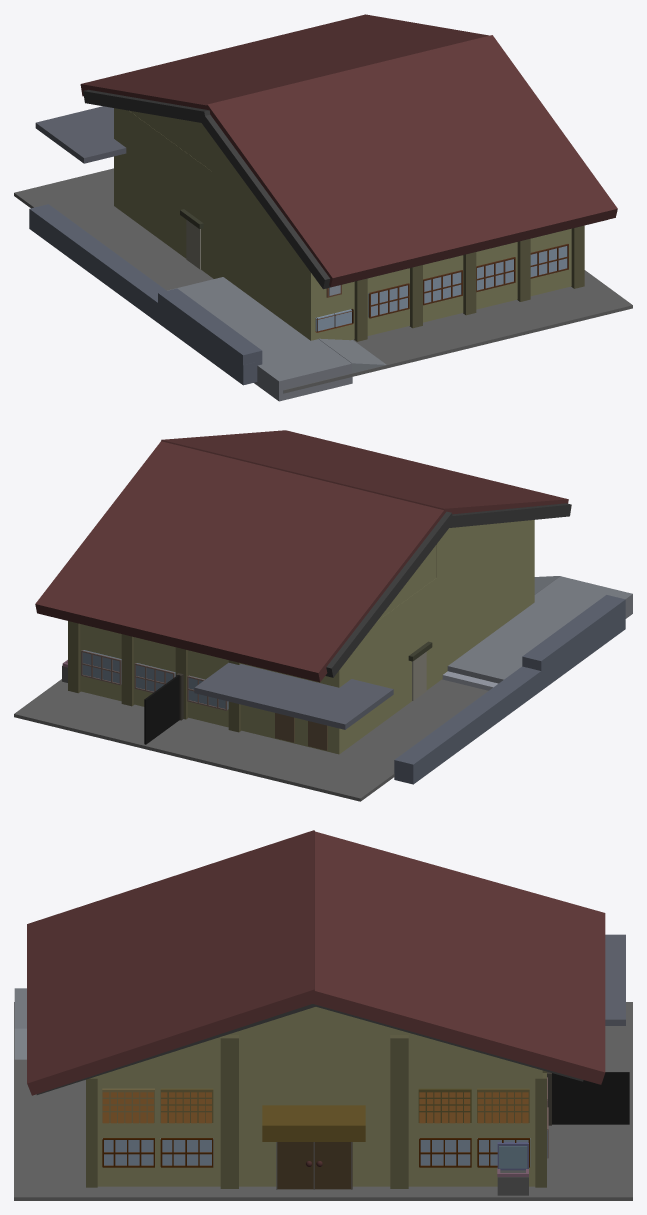
File: cafeteria1.fbx
3 views of the same model, one above another, from view 1: azimuth 30°, elevation 25°; view 2: azimuth 150°, elevation 25°; view 3: azimuth 270°, elevation 25° (orthographic). The views are drawn at different scales.
Parts seen in each view (by area): view 1: Cube.004, Cube.003, Cube.036, Cube.040, Cube.043, Cube.005, Cube.026, Cube.008, Cube.041, Cube.027, Cube.044, Cube.020; view 2: Cube.004, Cube.003, Cube.036, Cube.040, Cube.041, Cube.043, Cube.005, Cube.026, Cube.006, Cube.025, Cube.063, Cube.023 (+2 smaller); view 3: Cube.004, Cube.003, Cube.036, Cube.026, Cube.029, Cube.018, Cube.002, Cube.025, Cube.009, Cube.021, Cube.041, Cube.005 (+7 smaller).
Part boxes in pixels (bbox=[...]): Cube.004: bbox=[80, 14, 617, 286]; Cube.003: bbox=[114, 108, 571, 340]; Cube.036: bbox=[14, 168, 632, 393]; Cube.040: bbox=[29, 204, 262, 385]; Cube.043: bbox=[167, 277, 352, 401]; Cube.005: bbox=[83, 89, 607, 289]; Cube.026: bbox=[354, 225, 584, 341]; Cube.008: bbox=[315, 246, 567, 331]; Cube.041: bbox=[35, 106, 126, 163]; Cube.027: bbox=[315, 244, 568, 332]; Cube.044: bbox=[318, 338, 386, 373]; Cube.020: bbox=[186, 220, 200, 269]; Cube.004: bbox=[35, 430, 568, 682]; Cube.003: bbox=[80, 520, 534, 754]; Cube.036: bbox=[14, 679, 488, 801]; Cube.040: bbox=[394, 595, 625, 784]; Cube.041: bbox=[194, 662, 393, 729]; Cube.043: bbox=[447, 576, 632, 683]; Cube.005: bbox=[325, 503, 571, 677]; Cube.026: bbox=[68, 621, 240, 732]; Cube.006: bbox=[82, 650, 228, 709]; Cube.025: bbox=[144, 675, 179, 744]; Cube.063: bbox=[81, 650, 227, 710]; Cube.023: bbox=[275, 713, 327, 750]; Cube.004: bbox=[27, 830, 605, 1095]; Cube.003: bbox=[92, 1007, 542, 1186]; Cube.036: bbox=[14, 1002, 632, 1200]; Cube.026: bbox=[86, 1035, 546, 1188]; Cube.029: bbox=[102, 1092, 528, 1123]; Cube.018: bbox=[102, 1138, 530, 1166]; Cube.002: bbox=[262, 1105, 365, 1141]; Cube.025: bbox=[552, 1072, 629, 1124]; Cube.009: bbox=[277, 1142, 352, 1189]; Cube.021: bbox=[102, 1138, 529, 1167]; Cube.041: bbox=[605, 934, 625, 1025]; Cube.005: bbox=[36, 1004, 583, 1094].
Bounding box in the file's own units: 4032 × 1913 × 4872.
